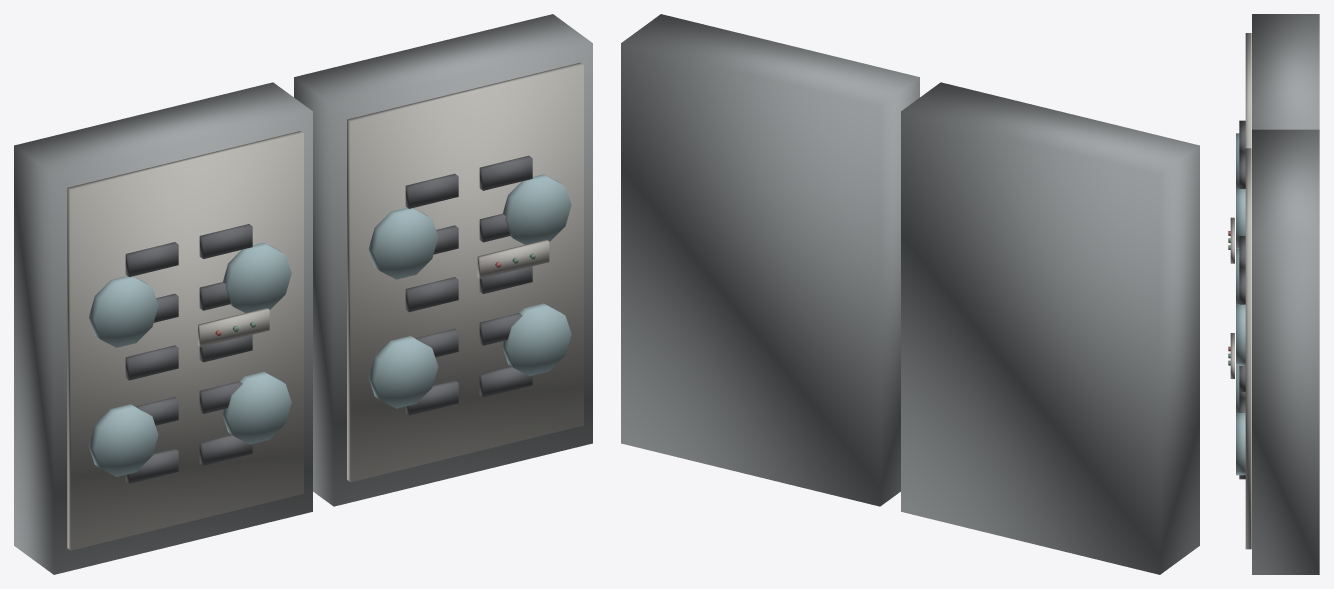
File: meter_bank__cluster.glb
The picture shows the model from 3 angles, left to right: view 1: azimuth 30°, elevation 25°; view 2: azimuth 150°, elevation 25°; view 3: azimuth 270°, elevation 25°; orthographic projection. The views are drawn at different scales.
Parts seen in each view (by area): view 1: world; view 2: world; view 3: world.
Boxes of the visible parts, x1,y1,x2,y2 form: world: (14,14,592,574); world: (621,14,1199,574); world: (1228,14,1319,574).
Size of the model in its own units: 2.18 by 1.55 by 0.3785.
